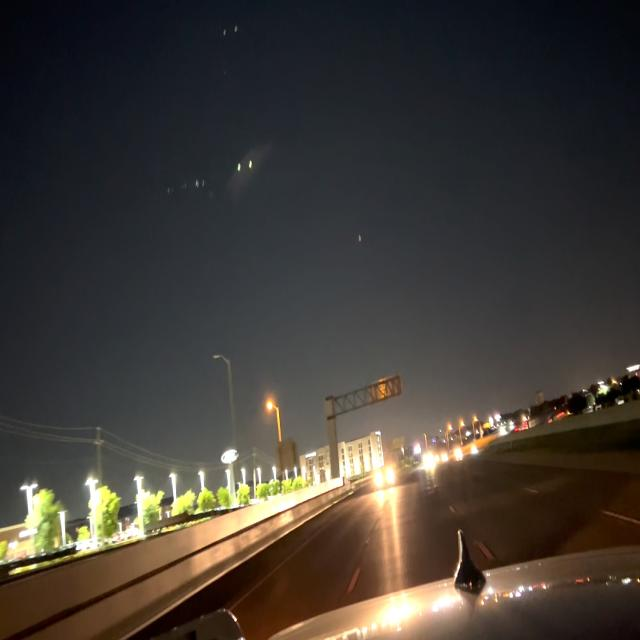back-of-sign: (368, 372, 401, 405)
